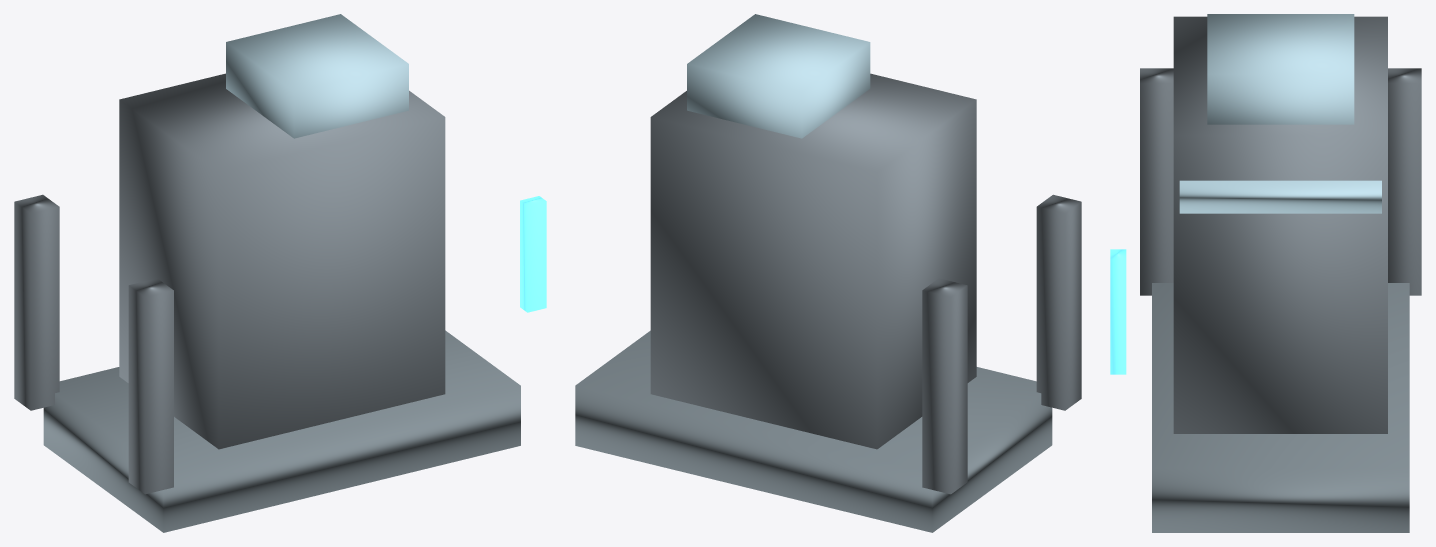
File: ice-mine-cryo-pump-lod1.glb
The picture shows the model from 3 angles, left to right: view 1: azimuth 30°, elevation 25°; view 2: azimuth 150°, elevation 25°; view 3: azimuth 270°, elevation 25°; orthographic projection. The views are drawn at different scales.
Visible parts, largest first — view 1: ice-mine-cryo-pump-housing, ice-mine-cryo-pump-skid, ice-mine-cryo-pump-cold-head, ice-mine-cryo-pump-feed-right, ice-mine-cryo-pump-feed-left, ice-mine-cryo-pump-status; view 2: ice-mine-cryo-pump-housing, ice-mine-cryo-pump-skid, ice-mine-cryo-pump-cold-head, ice-mine-cryo-pump-feed-left, ice-mine-cryo-pump-feed-right; view 3: ice-mine-cryo-pump-housing, ice-mine-cryo-pump-skid, ice-mine-cryo-pump-cold-head, ice-mine-cryo-pump-feed-left, ice-mine-cryo-pump-feed-right, ice-mine-cryo-pump-frost-collar, ice-mine-cryo-pump-status.
Part boxes in pixels (bbox=[...]): ice-mine-cryo-pump-housing: bbox=[119, 73, 445, 449]; ice-mine-cryo-pump-skid: bbox=[43, 330, 520, 532]; ice-mine-cryo-pump-cold-head: bbox=[226, 14, 408, 138]; ice-mine-cryo-pump-feed-right: bbox=[128, 278, 173, 494]; ice-mine-cryo-pump-feed-left: bbox=[14, 194, 59, 410]; ice-mine-cryo-pump-status: bbox=[520, 196, 546, 312]; ice-mine-cryo-pump-housing: bbox=[650, 73, 976, 449]; ice-mine-cryo-pump-skid: bbox=[575, 330, 1052, 532]; ice-mine-cryo-pump-cold-head: bbox=[687, 14, 870, 138]; ice-mine-cryo-pump-feed-left: bbox=[922, 278, 967, 494]; ice-mine-cryo-pump-feed-right: bbox=[1036, 194, 1081, 410]; ice-mine-cryo-pump-housing: bbox=[1173, 16, 1387, 433]; ice-mine-cryo-pump-skid: bbox=[1152, 283, 1409, 532]; ice-mine-cryo-pump-cold-head: bbox=[1207, 14, 1354, 124]; ice-mine-cryo-pump-feed-left: bbox=[1388, 68, 1421, 295]; ice-mine-cryo-pump-feed-right: bbox=[1140, 68, 1173, 295]; ice-mine-cryo-pump-frost-collar: bbox=[1179, 180, 1381, 213]; ice-mine-cryo-pump-status: bbox=[1110, 249, 1126, 374].
Bounding box in the file's own units: 2.43 × 2.3 × 1.57.
